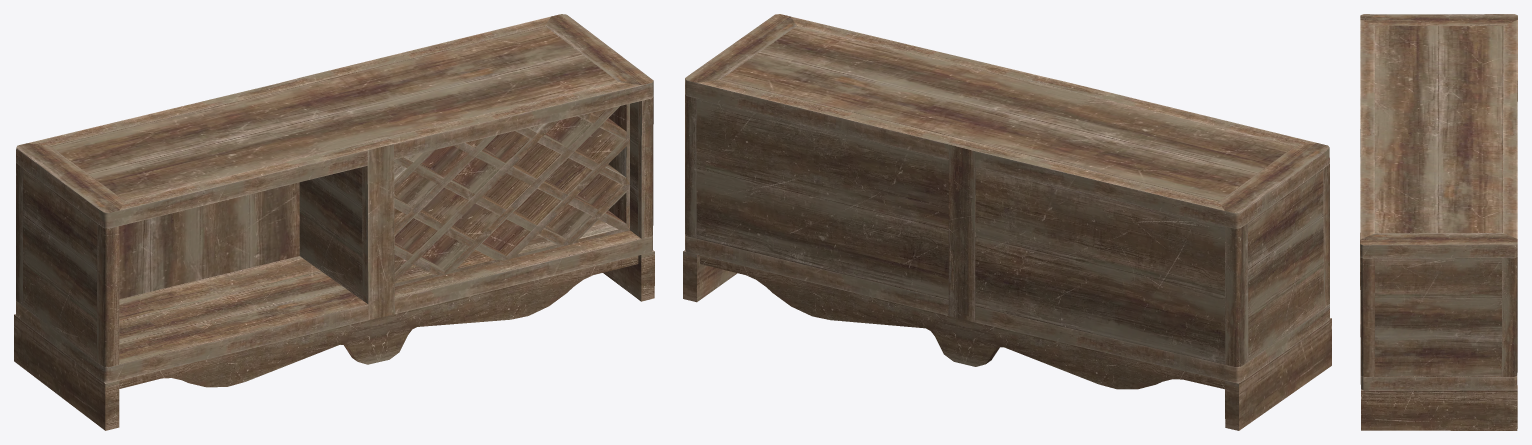
3 renders of one model, left to right at view 1: azimuth 30°, elevation 25°; view 2: azimuth 150°, elevation 25°; view 3: azimuth 270°, elevation 25°, orthographic. The views are drawn at different scales.
Visible parts, largest first — view 1: SM_DR_smallshelf_02_LOD0; view 2: SM_DR_smallshelf_02_LOD0; view 3: SM_DR_smallshelf_02_LOD0.
Boxes of the visible parts, box(x1,y1,x2,y2) form: SM_DR_smallshelf_02_LOD0: box(14, 14, 654, 430); SM_DR_smallshelf_02_LOD0: box(683, 14, 1331, 430); SM_DR_smallshelf_02_LOD0: box(1360, 14, 1517, 430).
Bounding box in the file's own units: 2.43 × 0.9221 × 0.704.
1 material, 1 textured.
